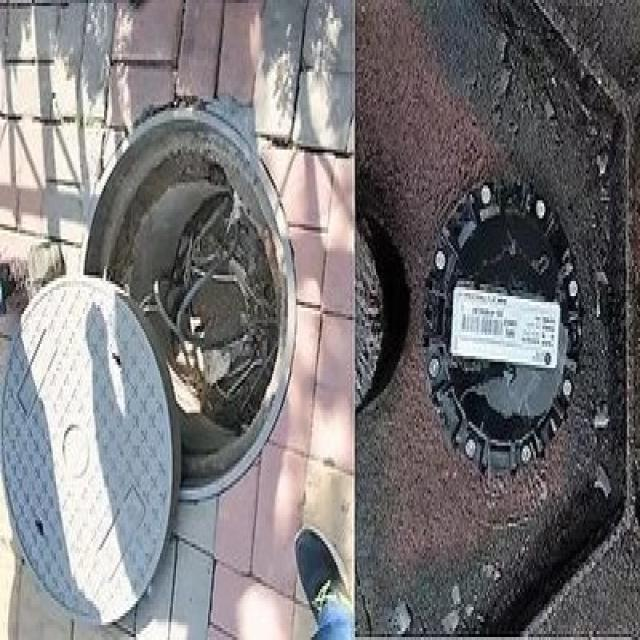manhole: (0, 72, 298, 616)
